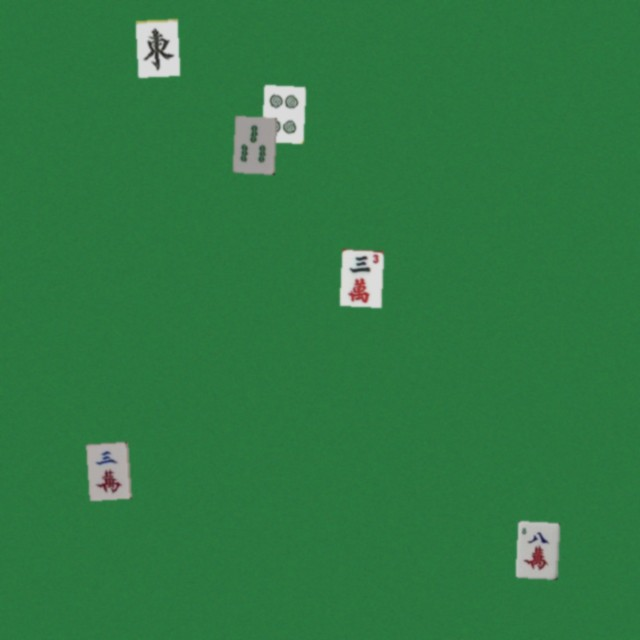tile: (261, 84, 303, 141), (135, 19, 177, 76), (339, 248, 381, 305), (232, 115, 274, 172), (86, 441, 128, 498), (515, 520, 557, 577)
